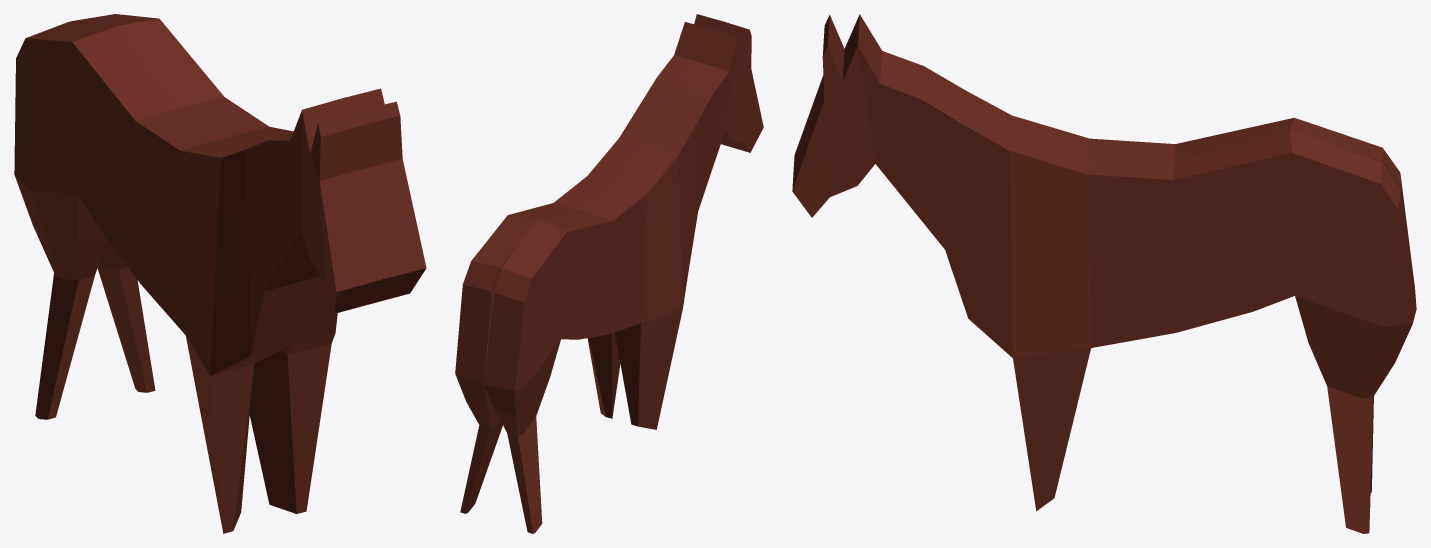
Rendered from Low_Animal.gltf.
3 views of the same model, side by side, from view 1: azimuth 30°, elevation 25°; view 2: azimuth 150°, elevation 25°; view 3: azimuth 270°, elevation 25° (orthographic). The views are drawn at different scales.
Parts seen in each view (by area): view 1: Low_Animal; view 2: Low_Animal; view 3: Low_Animal.
Boxes of the visible parts, <box> form: Low_Animal: <box>14,14,426,533</box>; Low_Animal: <box>455,14,763,533</box>; Low_Animal: <box>792,14,1416,533</box>.
Bounding box in the file's own units: 0.5476 × 2.13 × 2.54.
